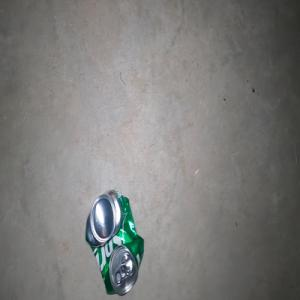SodaCan: (85, 189, 144, 295)
